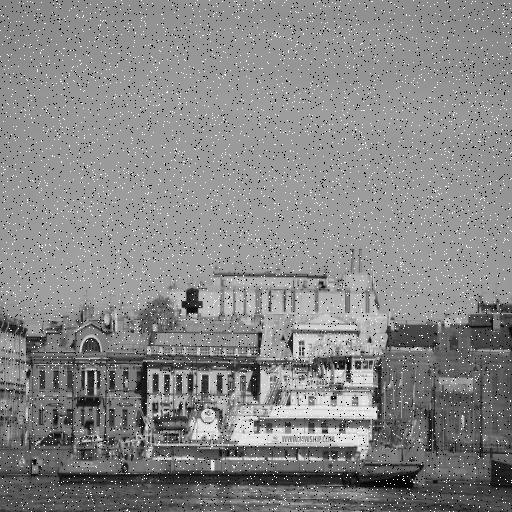tugboat: (54, 318, 434, 496)
